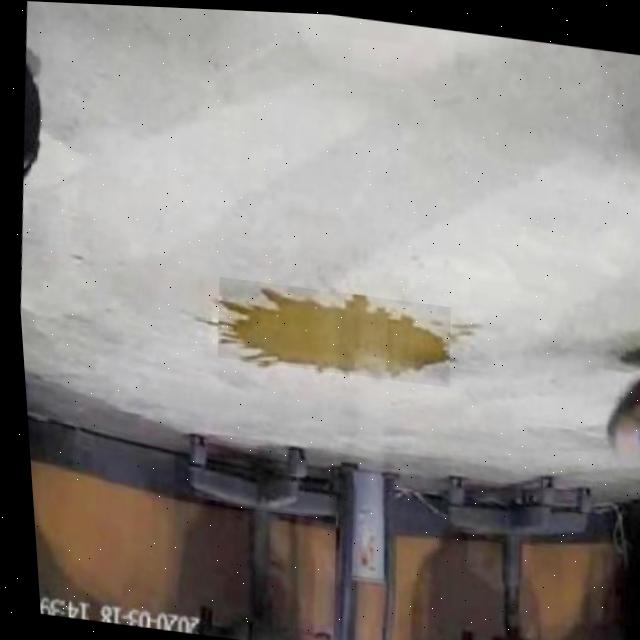spillage: (215, 286, 445, 373)
